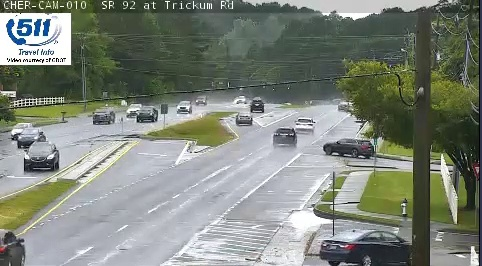car: (273, 127, 296, 145), (294, 117, 314, 132), (237, 113, 252, 125)
